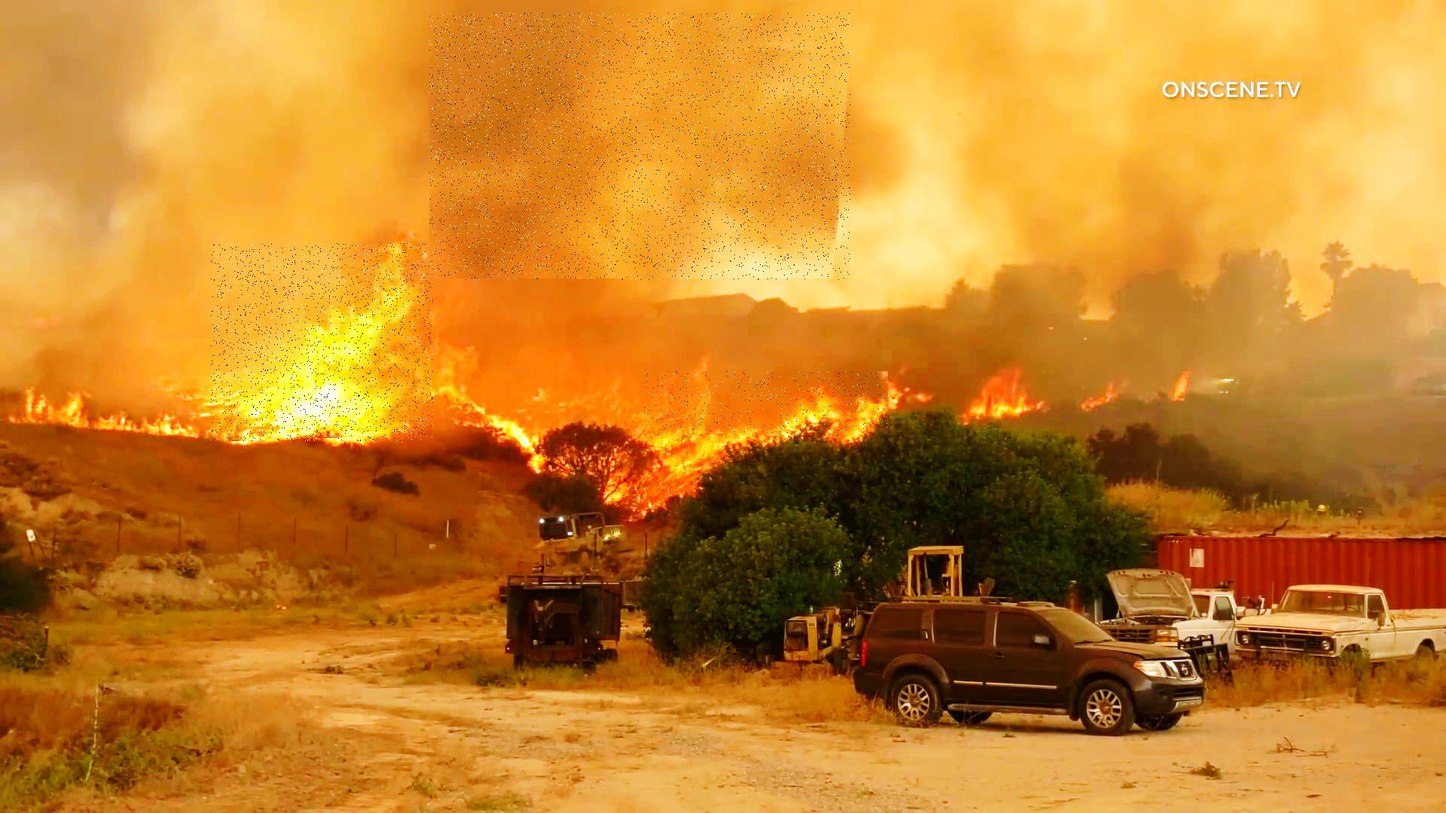fire: (212, 243, 434, 441), (640, 371, 888, 437)
smoke: (429, 13, 850, 281)
